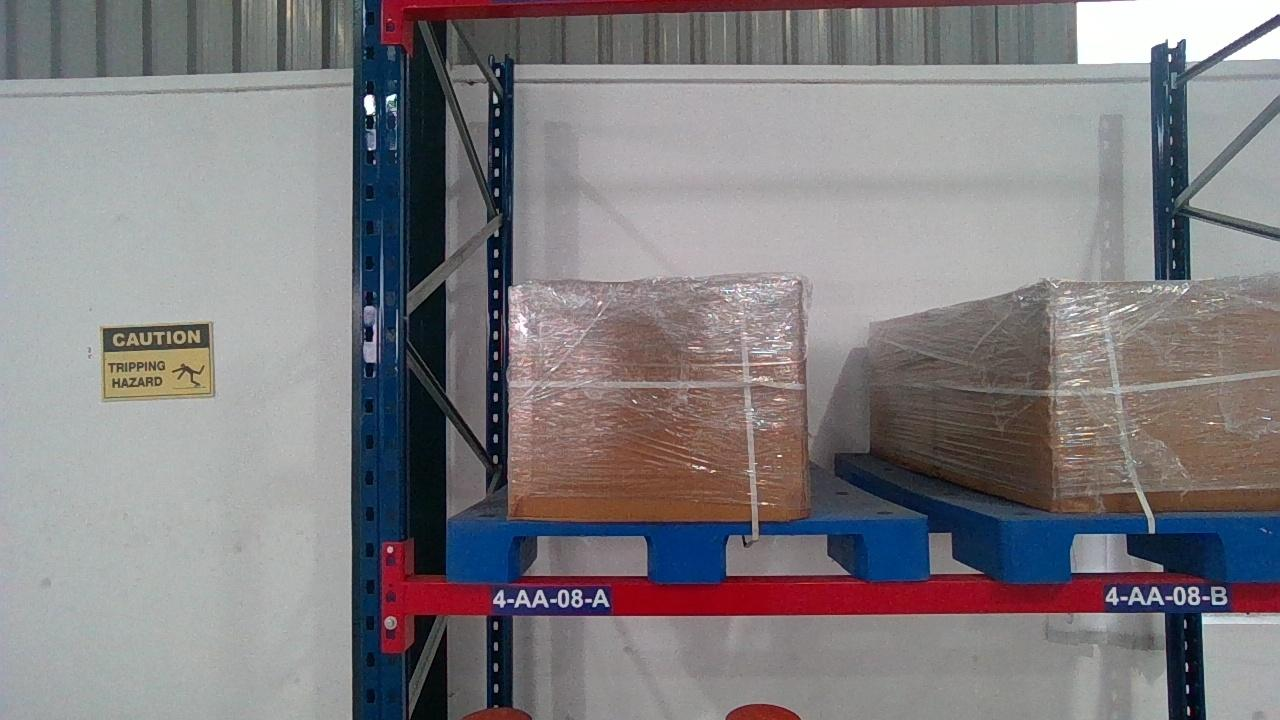h_rack: (408, 578, 1277, 614)
small_pallet: (443, 520, 931, 579), (1005, 517, 1279, 578)
